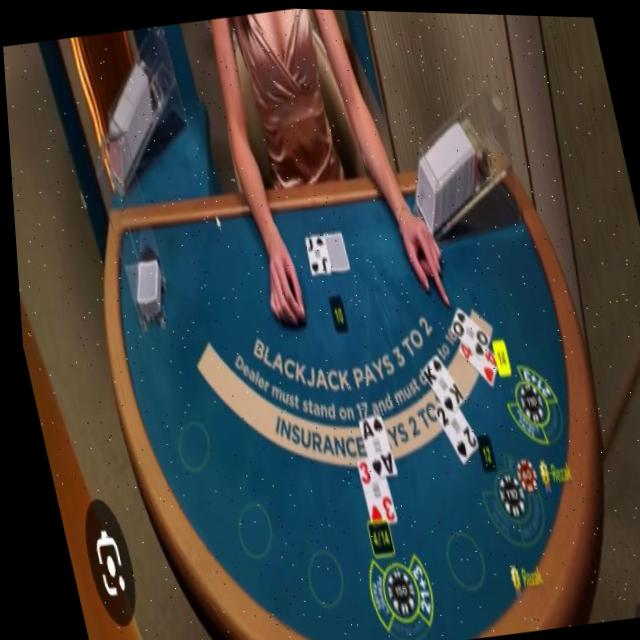Card-2: (428, 397, 472, 463)
Card-3: (350, 456, 390, 521)
Card-4: (454, 338, 494, 383)
Card-A: (353, 411, 391, 475)
Card-J: (302, 232, 327, 273)
Card-K: (417, 350, 458, 417)
Card-Q: (447, 303, 485, 357)
